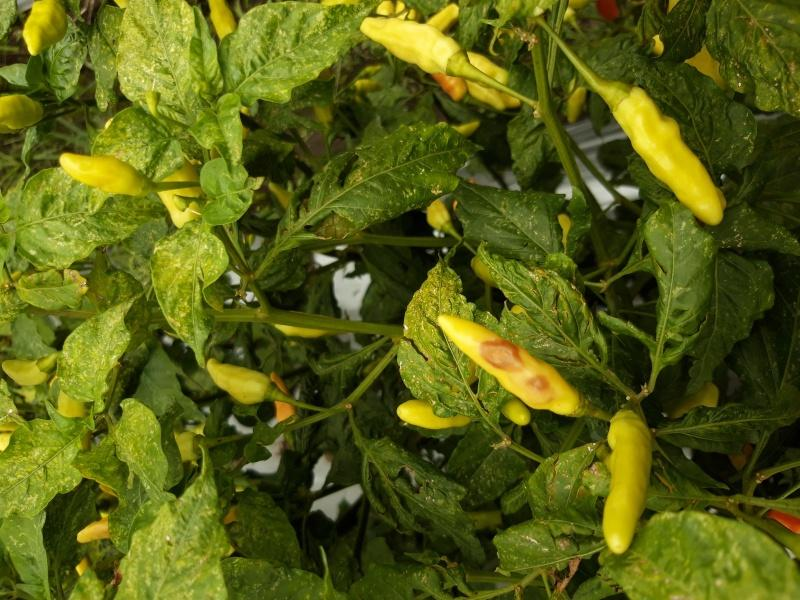antraknosa: (438, 313, 576, 413)
cabai_normal: (616, 88, 726, 228), (603, 412, 651, 558), (362, 19, 461, 71), (208, 359, 276, 406), (61, 154, 140, 194), (394, 404, 484, 428), (28, 0, 60, 56)
